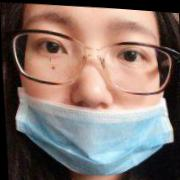WRONG: (14, 7, 169, 180)
